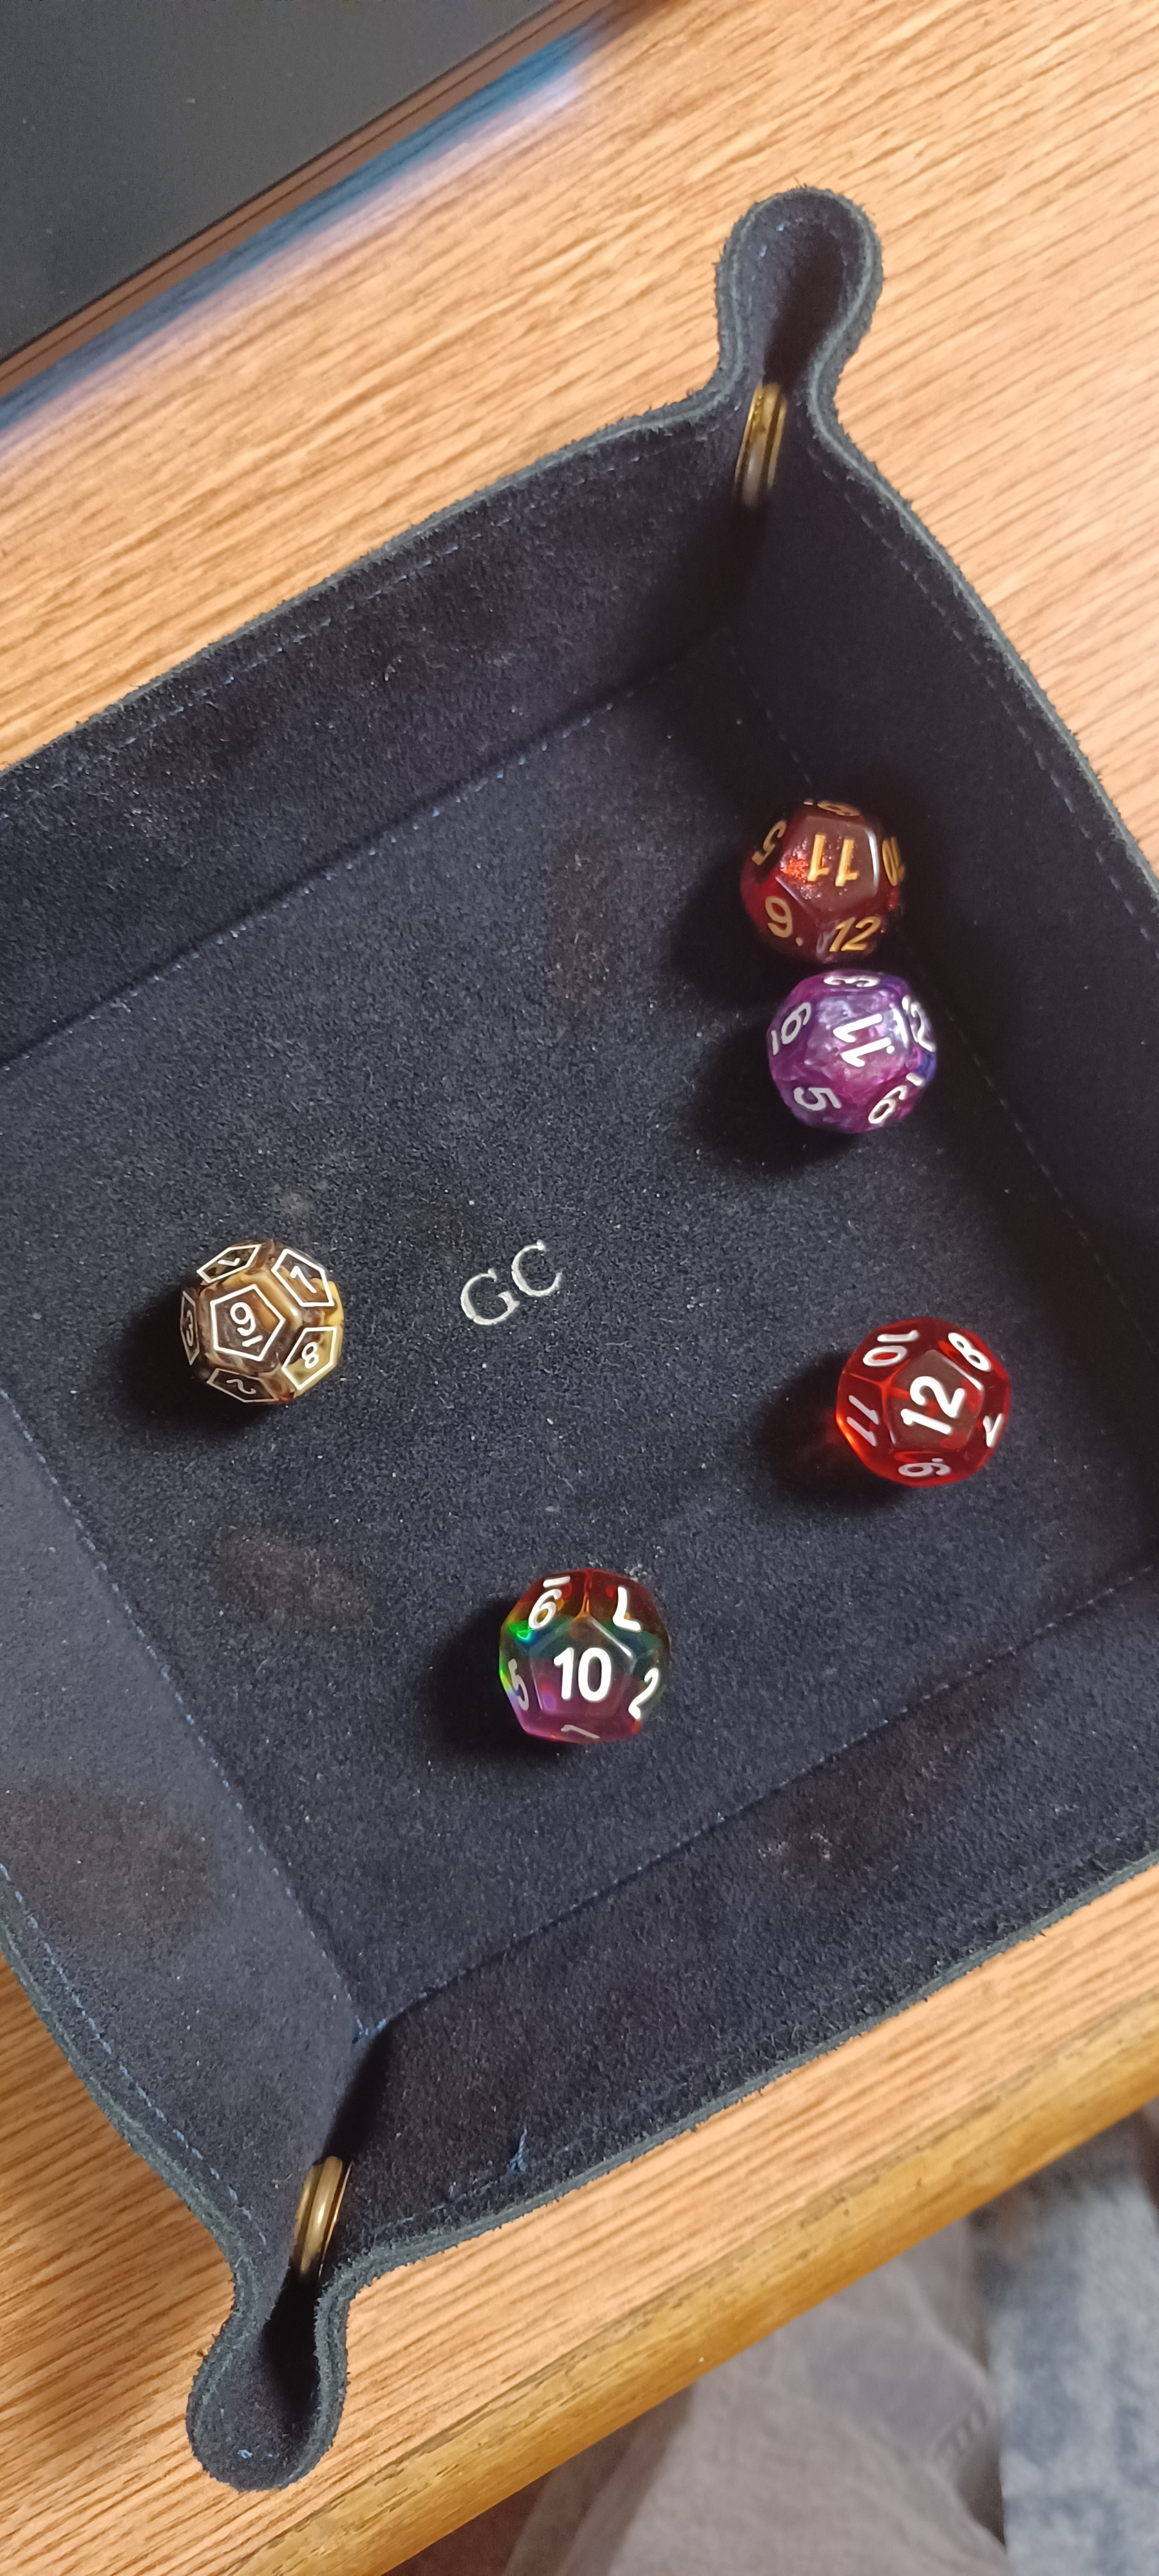eleven: (726, 948, 955, 1150), (714, 775, 936, 958)
nine: (138, 1212, 383, 1416)
ten: (447, 1534, 701, 1779)
twelve: (788, 1285, 1051, 1518)
